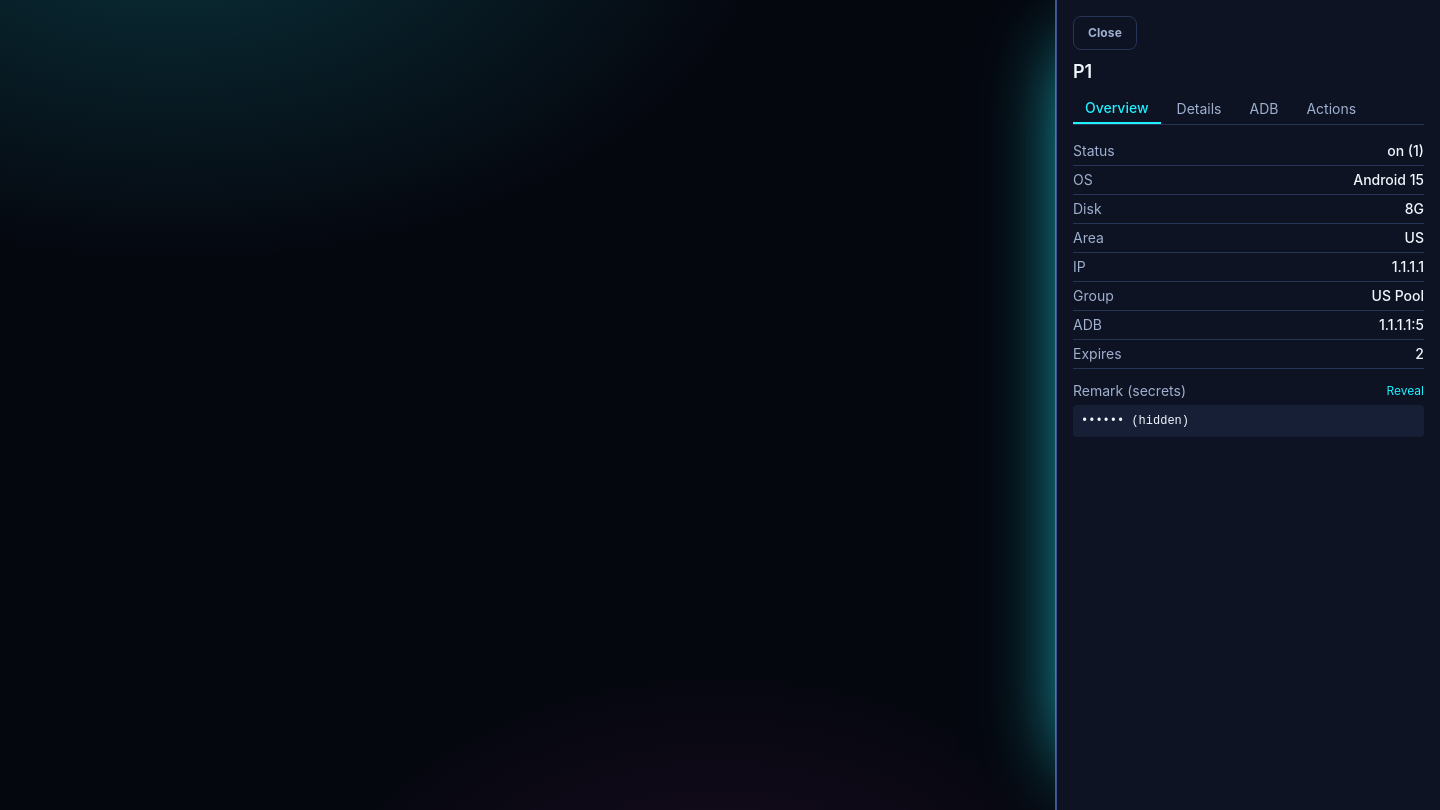
it: DeviceDrawer › Details tab lazily fetches and shows device info
Click the tab "Details" at (1199, 109), box [1164, 94, 1234, 124]
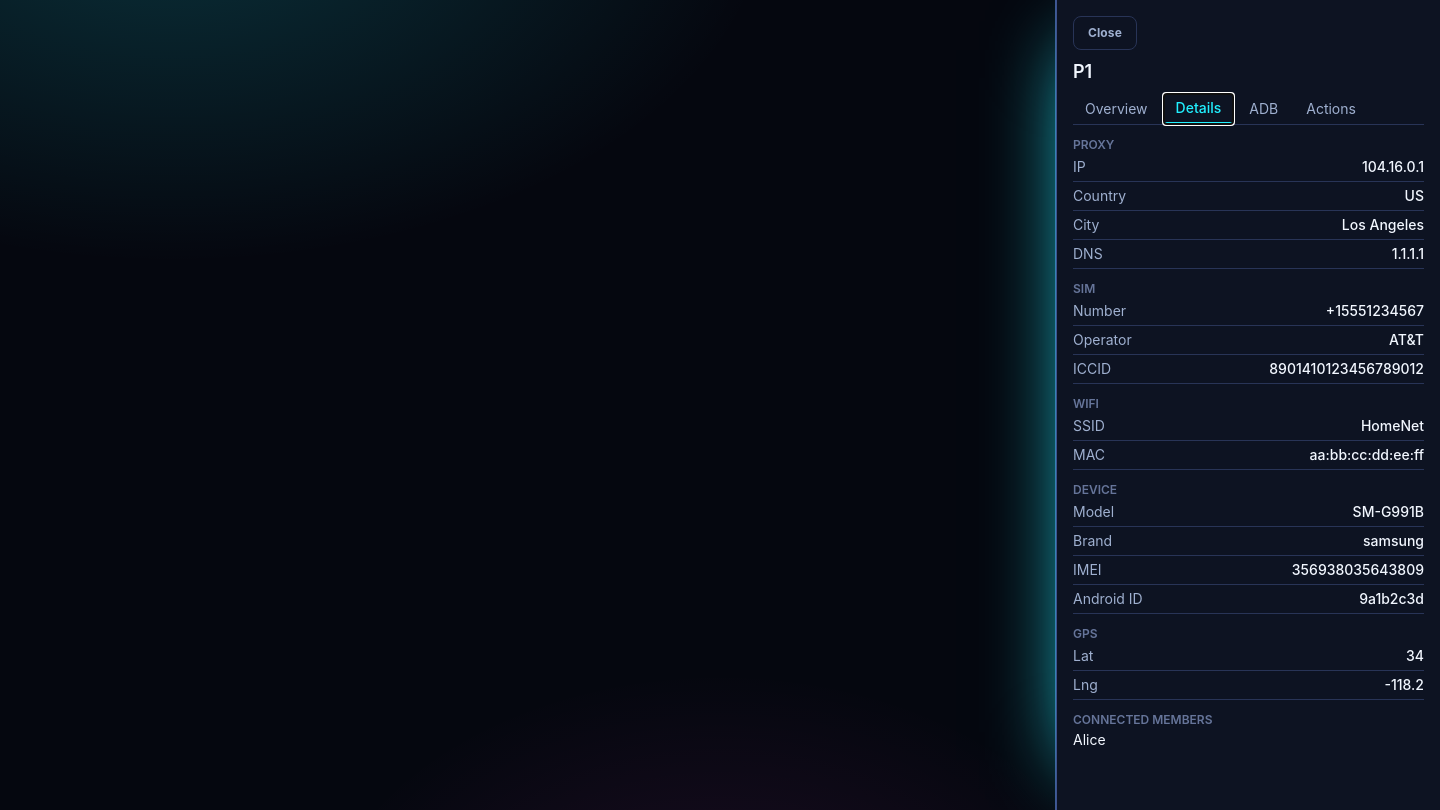
Result: the text "SM-G991B" is shown at [1353, 502, 1424, 522]
Result: the text "104.16.0.1" is shown at [1362, 157, 1424, 177]
Result: the text "Alice" is shown at [1073, 731, 1106, 748]
